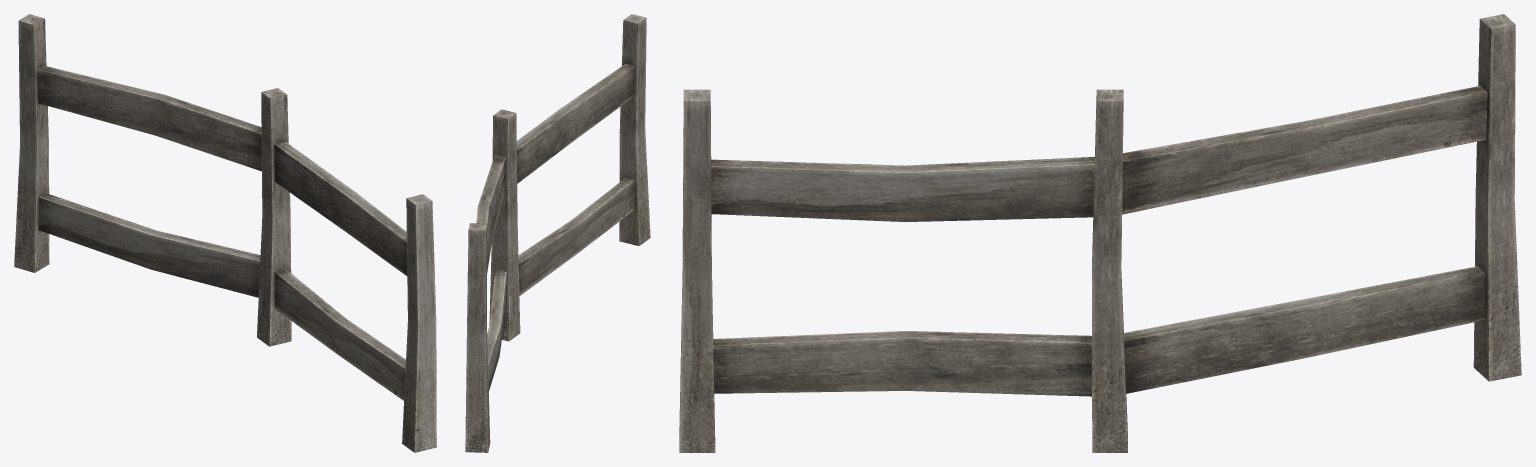
Rendered from fence.FBX.
The picture shows the model from 3 angles, left to right: view 1: azimuth 30°, elevation 25°; view 2: azimuth 150°, elevation 25°; view 3: azimuth 270°, elevation 25°; orthographic projection. The views are drawn at different scales.
Parts seen in each view (by area): view 1: fence; view 2: fence; view 3: fence.
Part boxes in pixels (x1=…): fence: x1=14, y1=14, x2=436, y2=452; fence: x1=465, y1=14, x2=650, y2=452; fence: x1=679, y1=14, x2=1521, y2=452.
Bounding box in the file's own units: 33.68 × 130 × 59.66.
